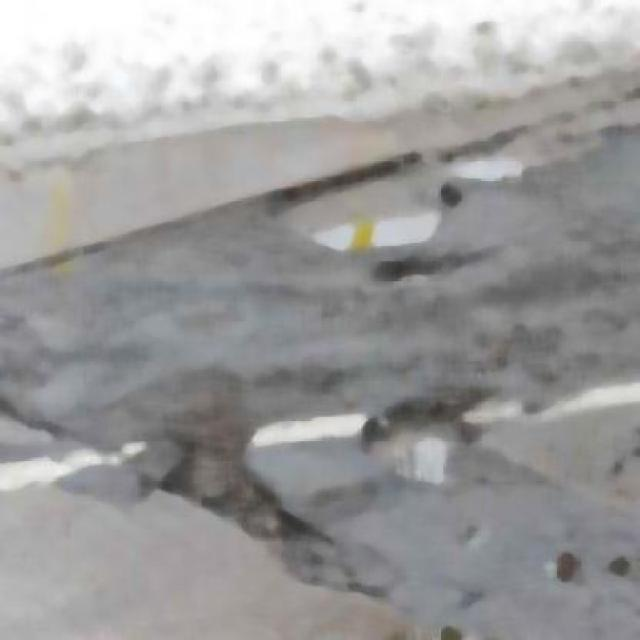Pothole: (377, 404, 466, 487), (320, 196, 443, 247), (443, 135, 534, 188)
